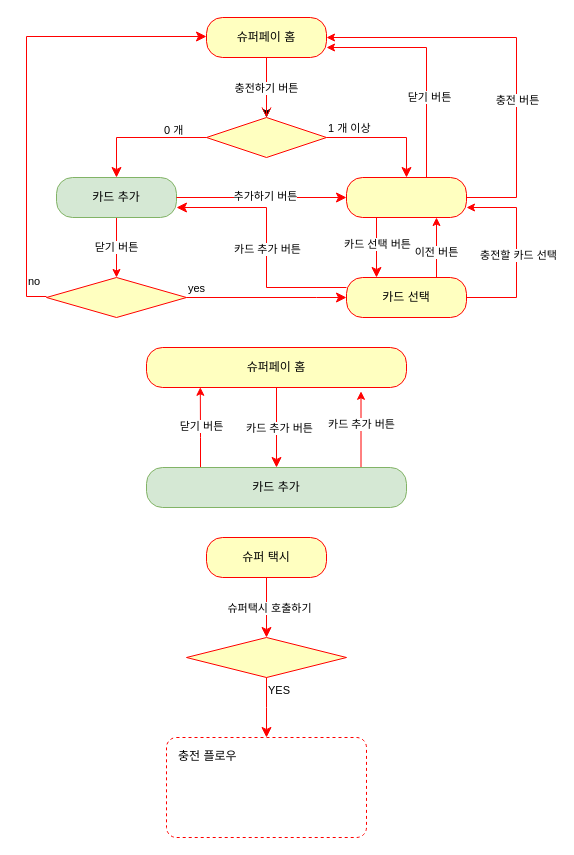
This 574x855 diagram has some shape labels left out. Each missing label, with the box of its shape:
보유 카드 개수: (206, 116, 326, 158)
잔고 < 택시 비용: (186, 636, 346, 678)
충전하기: (346, 176, 466, 218)
충천하기에서 진입?: (46, 276, 186, 318)
